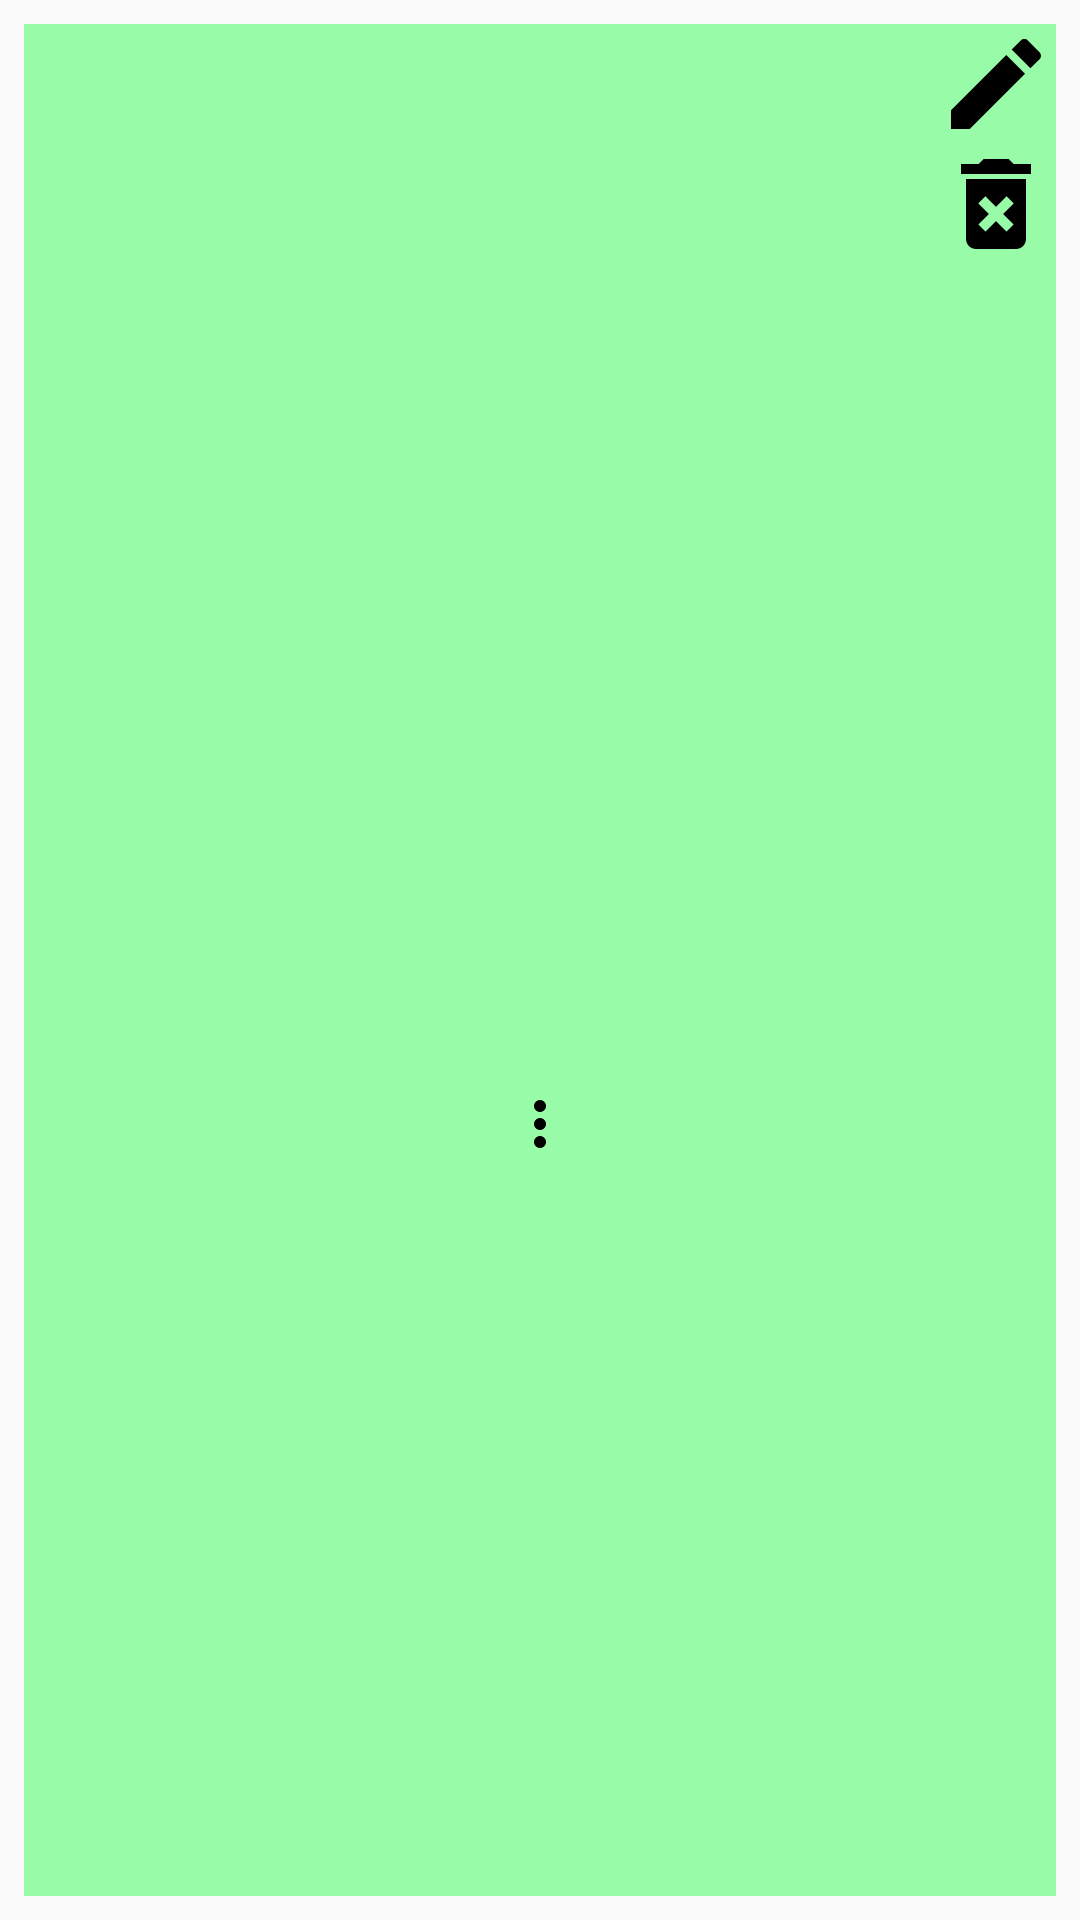

Icon click points for this 1080 x 1920 phone screenshot, format point (x, y):
delete forever: point (996, 204)
edit: point (996, 84)
more vert: point (540, 1124)
